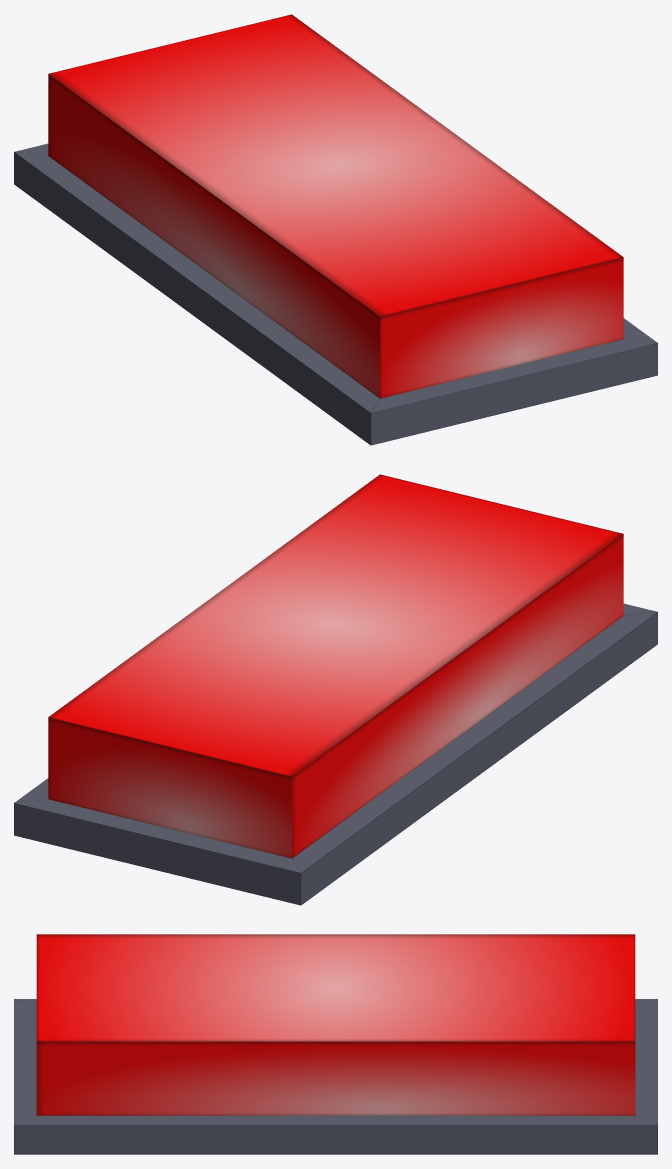
The model's file is Button_Rectangular_Red.FBX.
3 views of the same model, one above another, from view 1: azimuth 30°, elevation 25°; view 2: azimuth 150°, elevation 25°; view 3: azimuth 270°, elevation 25° (orthographic). The views are drawn at different scales.
Parts seen in each view (by area): view 1: Push_Me, Button_Rectangular_Red; view 2: Push_Me, Button_Rectangular_Red; view 3: Push_Me, Button_Rectangular_Red.
Part boxes in pixels (x1=…): Push_Me: x1=48, y1=14, x2=623, y2=398; Button_Rectangular_Red: x1=14, y1=143, x2=657, y2=445; Push_Me: x1=48, y1=474, x2=623, y2=858; Button_Rectangular_Red: x1=14, y1=603, x2=657, y2=905; Push_Me: x1=36, y1=934, x2=635, y2=1115; Button_Rectangular_Red: x1=14, y1=999, x2=657, y2=1154.
Size of the model in its own units: 0.0922 by 0.0351 by 0.1985.
Materials: 1 (1 with a texture image).
